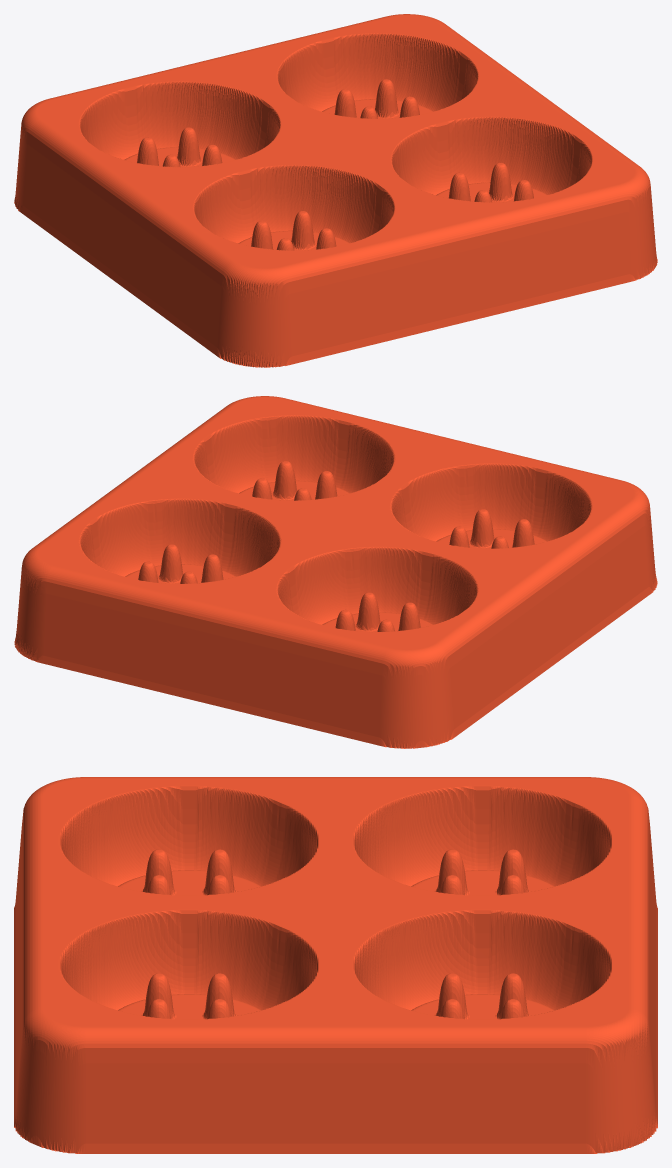
The model's file is mold.glb.
3 renders of one model, top to bottom at view 1: azimuth 30°, elevation 25°; view 2: azimuth 150°, elevation 25°; view 3: azimuth 270°, elevation 25°, orthographic. The views are drawn at different scales.
Parts seen in each view (by area): view 1: geometry_0; view 2: geometry_0; view 3: geometry_0.
Part boxes in pixels (left/top/right/bottom): geometry_0: left=14, top=14, right=657, bottom=367; geometry_0: left=14, top=396, right=657, bottom=748; geometry_0: left=14, top=777, right=657, bottom=1153.
Bounding box in the file's own units: 0.0808 × 0.0159 × 0.0808.
